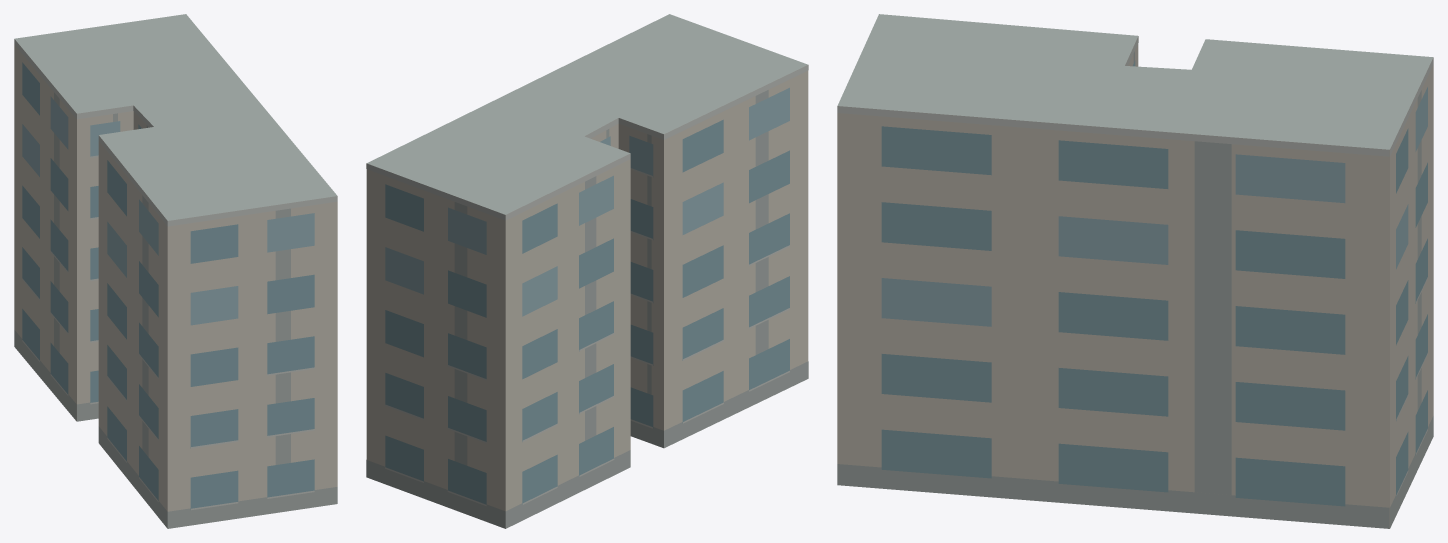
The model's file is survey-upis-32528047.glb.
The picture shows the model from 3 angles, left to right: view 1: azimuth 30°, elevation 25°; view 2: azimuth 150°, elevation 25°; view 3: azimuth 270°, elevation 25°; orthographic projection. The views are drawn at different scales.
Visible parts, largest first — view 1: survey-upis-32528047.tmp; view 2: survey-upis-32528047.tmp; view 3: survey-upis-32528047.tmp.
Boxes of the visible parts, x1=… form: survey-upis-32528047.tmp: x1=14, y1=14, x2=337, y2=528; survey-upis-32528047.tmp: x1=366, y1=14, x2=808, y2=528; survey-upis-32528047.tmp: x1=837, y1=14, x2=1433, y2=528.
Size of the model in its own units: 10.22 by 13.3 by 18.97.
